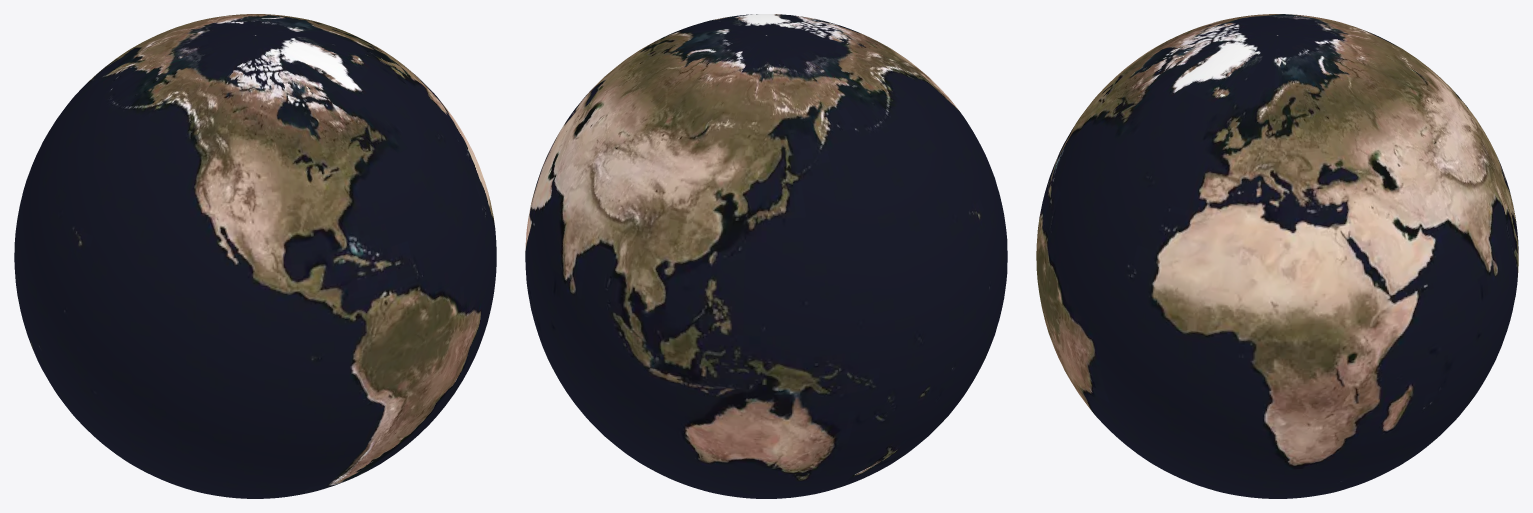
Rendered from Earth-transformed.glb.
The picture shows the model from 3 angles, left to right: view 1: azimuth 30°, elevation 25°; view 2: azimuth 150°, elevation 25°; view 3: azimuth 270°, elevation 25°; orthographic projection.
Visible parts, largest first — view 1: Sphere; view 2: Sphere; view 3: Sphere.
Boxes of the visible parts, box(x1,y1,x2,y2) form: Sphere: box(14, 14, 496, 498); Sphere: box(525, 14, 1007, 498); Sphere: box(1036, 14, 1518, 498).
Size of the model in its own units: 1.97 by 2 by 1.97.
Materials: 1 (1 with a texture image).
